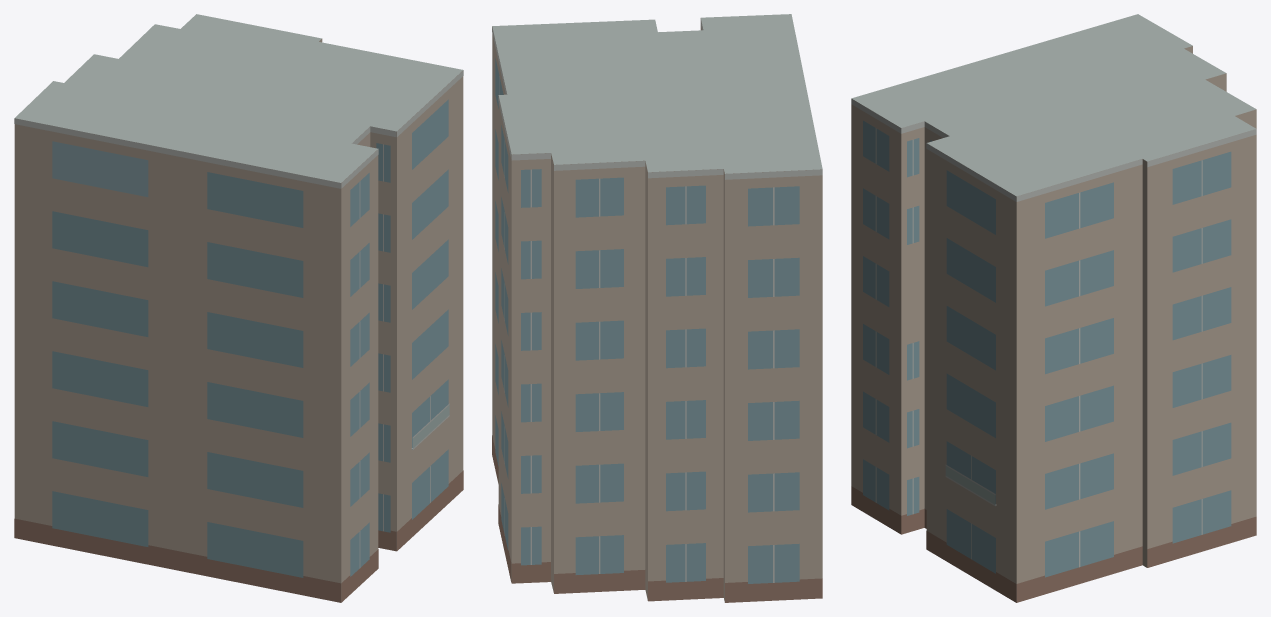
Rendered from survey-upis-32921324.glb.
3 views of the same model, side by side, from view 1: azimuth 30°, elevation 25°; view 2: azimuth 150°, elevation 25°; view 3: azimuth 270°, elevation 25° (orthographic). The views are drawn at different scales.
Parts seen in each view (by area): view 1: survey-upis-32921324.tmp; view 2: survey-upis-32921324.tmp; view 3: survey-upis-32921324.tmp.
Boxes of the visible parts, bbox=[...] form: survey-upis-32921324.tmp: bbox=[14, 14, 463, 602]; survey-upis-32921324.tmp: bbox=[492, 14, 822, 602]; survey-upis-32921324.tmp: bbox=[851, 14, 1256, 602].
Size of the model in its own units: 16.76 by 17.4 by 15.74.
